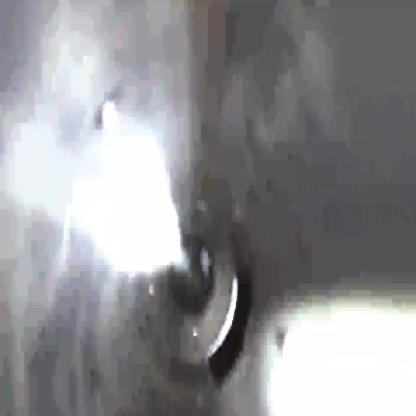Crack2: (206, 264, 256, 390)
